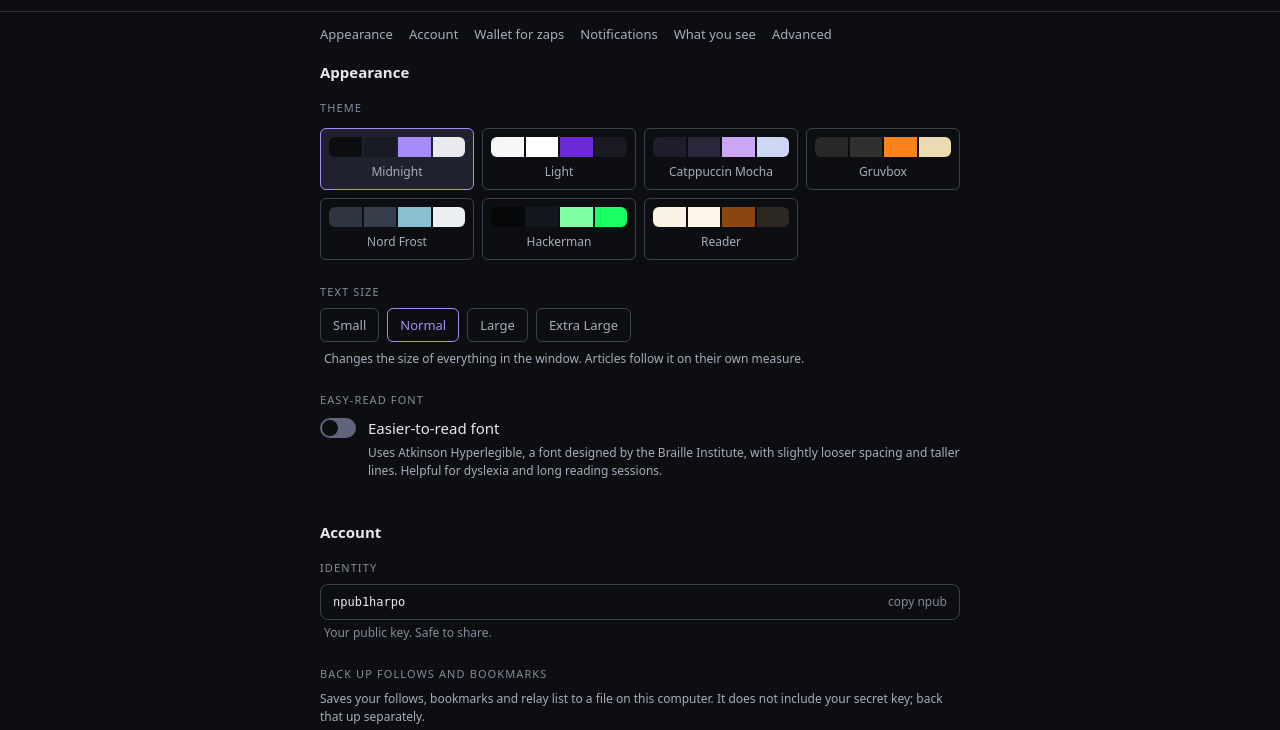
Test: Settings › opens Advanced when its jump is used
Click the button with aria-label "Go to Advanced" at (802,34), box [772, 24, 832, 44]
(page scrolled)
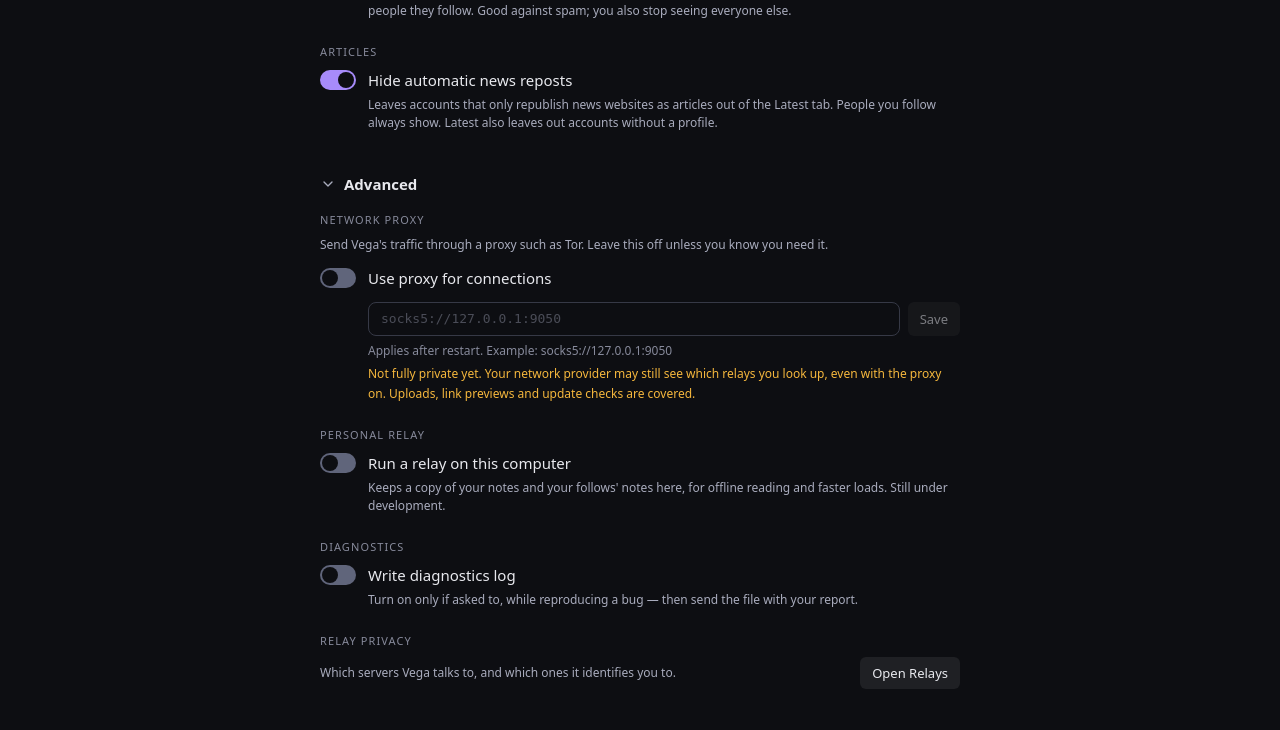
expect the heading "Network proxy" is shown: met, box [320, 212, 425, 227]
